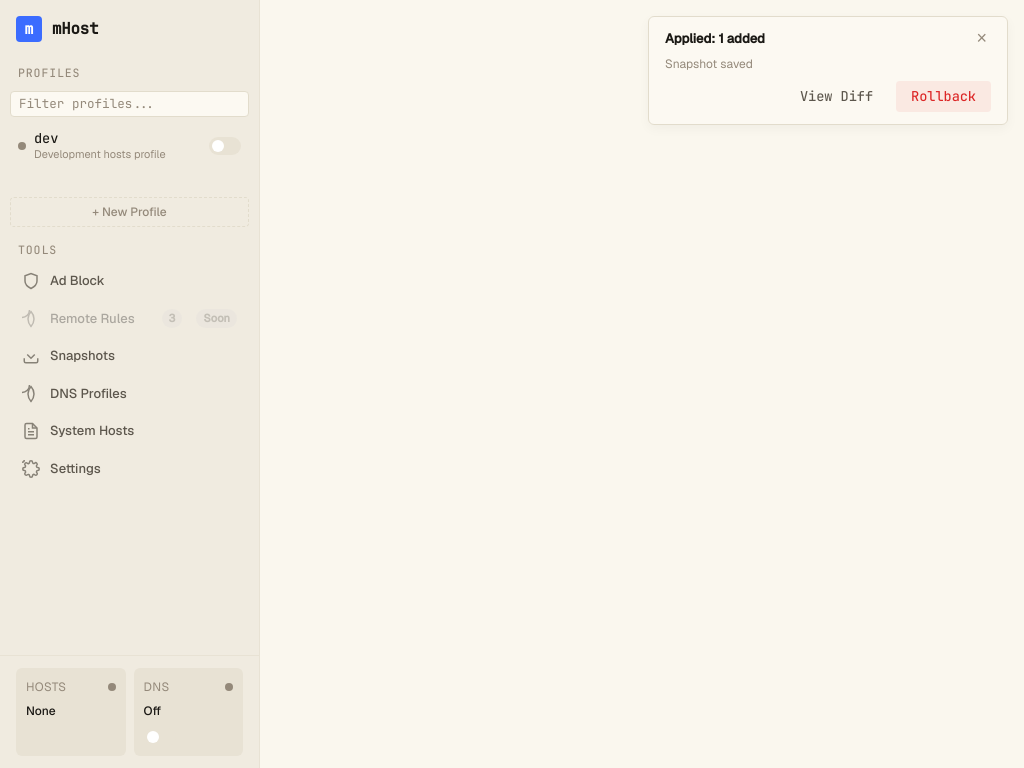
Test: Sidebar management surface (Phase 2) › shows an empty-filter hint instead of rows when nothing matches
This screenshot has width=1024, height=768.
In the field labelled "Filter profiles": (130,104) [10, 90, 249, 116], type "nomatch"
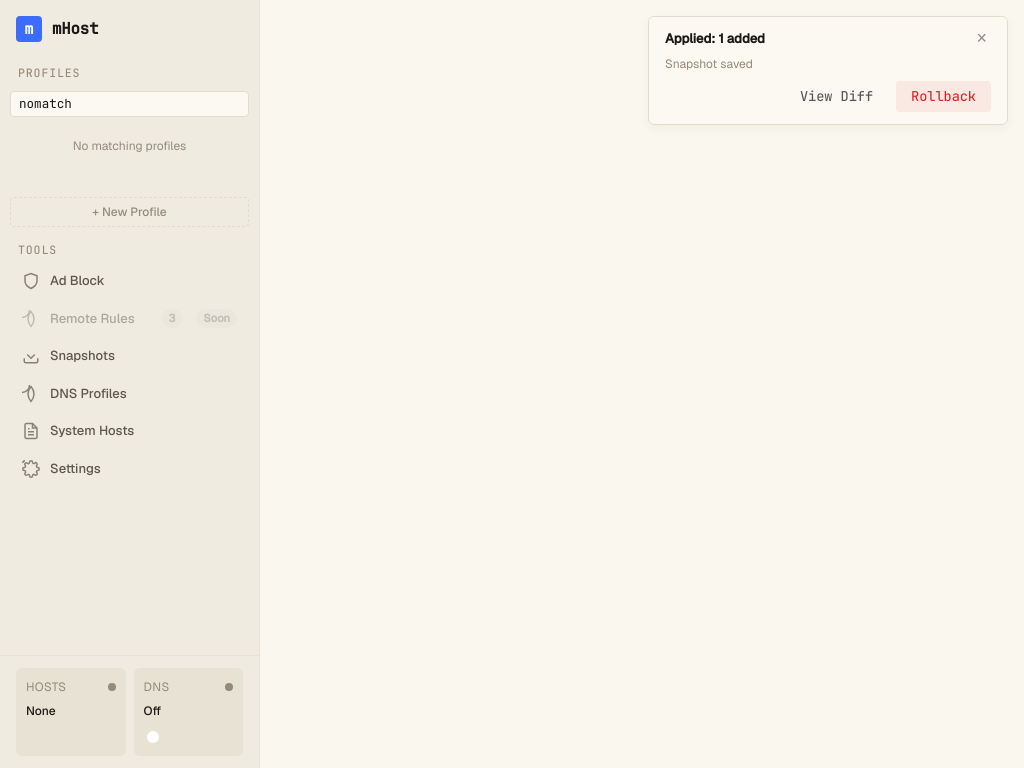
Now the text "No matching profiles" is shown, box [73, 138, 186, 154]
